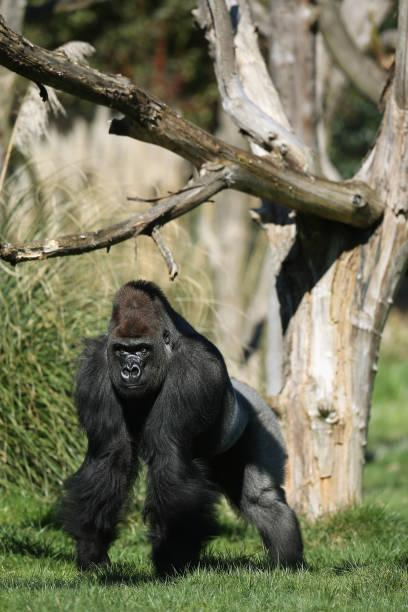goriile_montagne: (51, 266, 330, 612)
